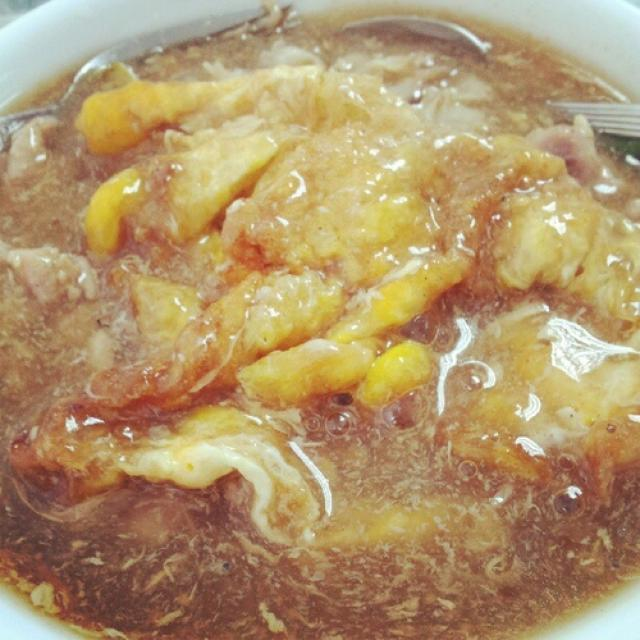面条主食: (19, 18, 612, 621)
